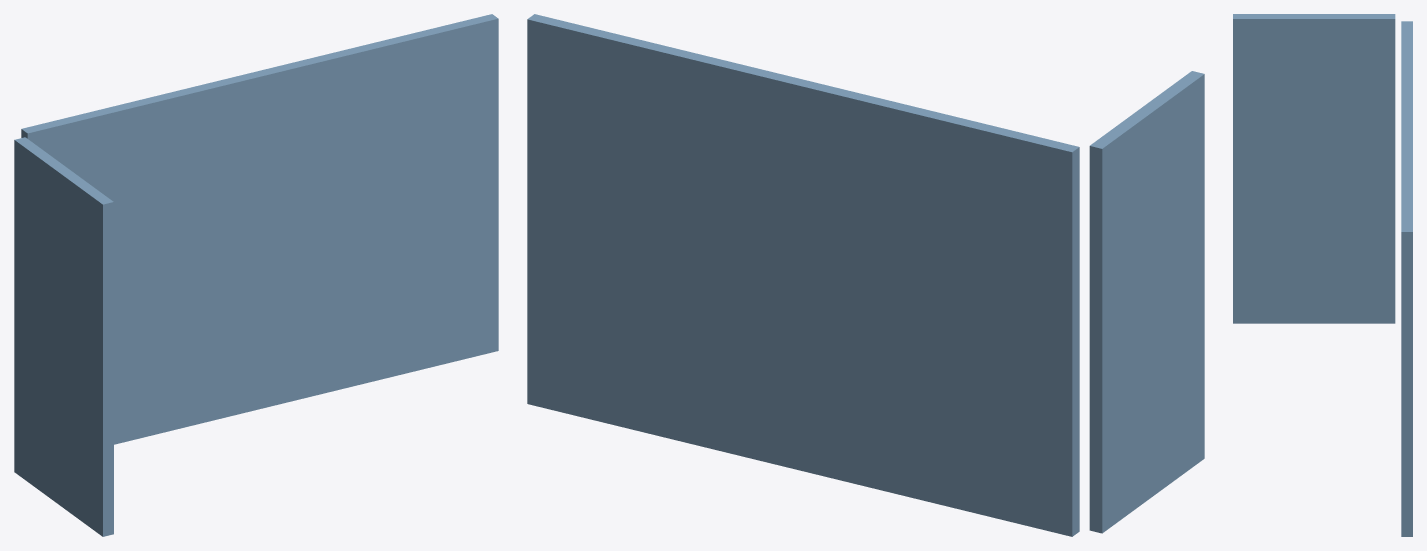
File: BusStop_Glass.glb
3 views of the same model, side by side, from view 1: azimuth 30°, elevation 25°; view 2: azimuth 150°, elevation 25°; view 3: azimuth 270°, elevation 25° (orthographic). The views are drawn at different scales.
Visible parts, largest first — view 1: BusStop_Glass; view 2: BusStop_Glass; view 3: BusStop_Glass.
Part boxes in pixels (x1,y1,x2,y2): BusStop_Glass: (14, 14, 498, 536); BusStop_Glass: (527, 14, 1204, 536); BusStop_Glass: (1233, 14, 1412, 536).
Bounding box in the file's own units: 8.9 × 5.8 × 3.1.
